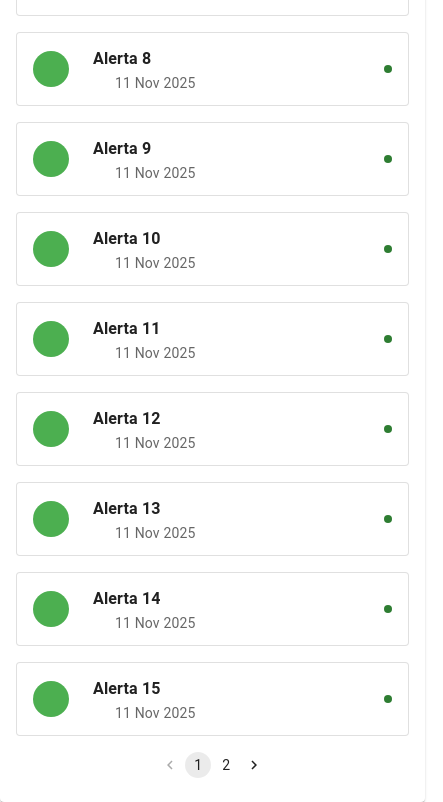
Test case: Lista de alertas › pagina la lista localmente y muestra solo la pagina actual
This screenshot has width=443, height=802.
(page scrolled)
Expected: the heading "Alerta 15" is shown, [93,679,161,698]
Expected: the text "Alerta 16" is not shown
Click the button named "Go to page 2": [226, 765] box [213,752,239,778]
(page scrolled)
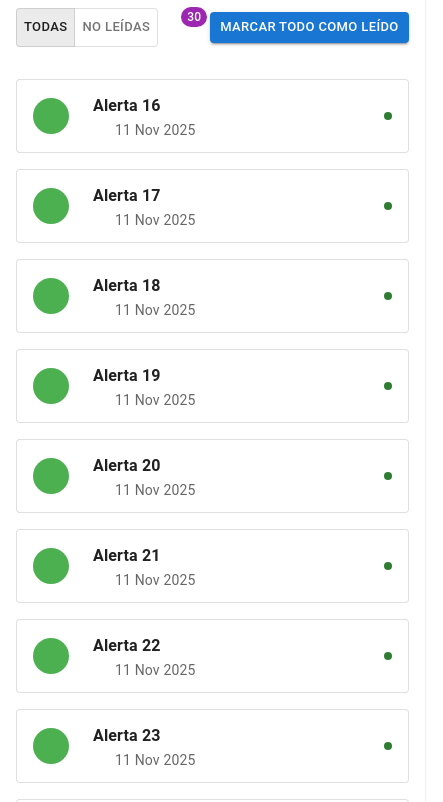
Expected: the heading "Alerta 16" is shown, [93,96,161,115]
